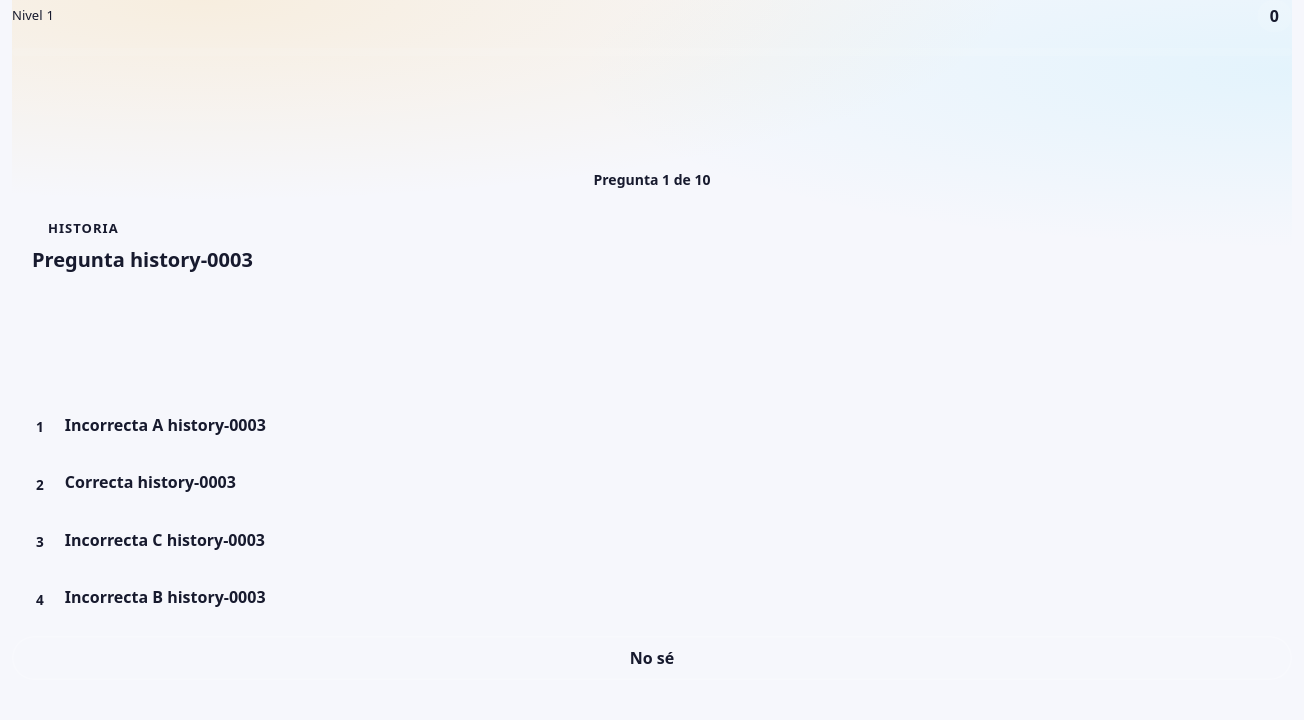
Test: answering correctly shows the check, the explanation and the score
The image size is (1304, 720).
Click the button "2 Correcta history-0003" at {"x": 64, "y": 482}, box [12,461,1292,509]
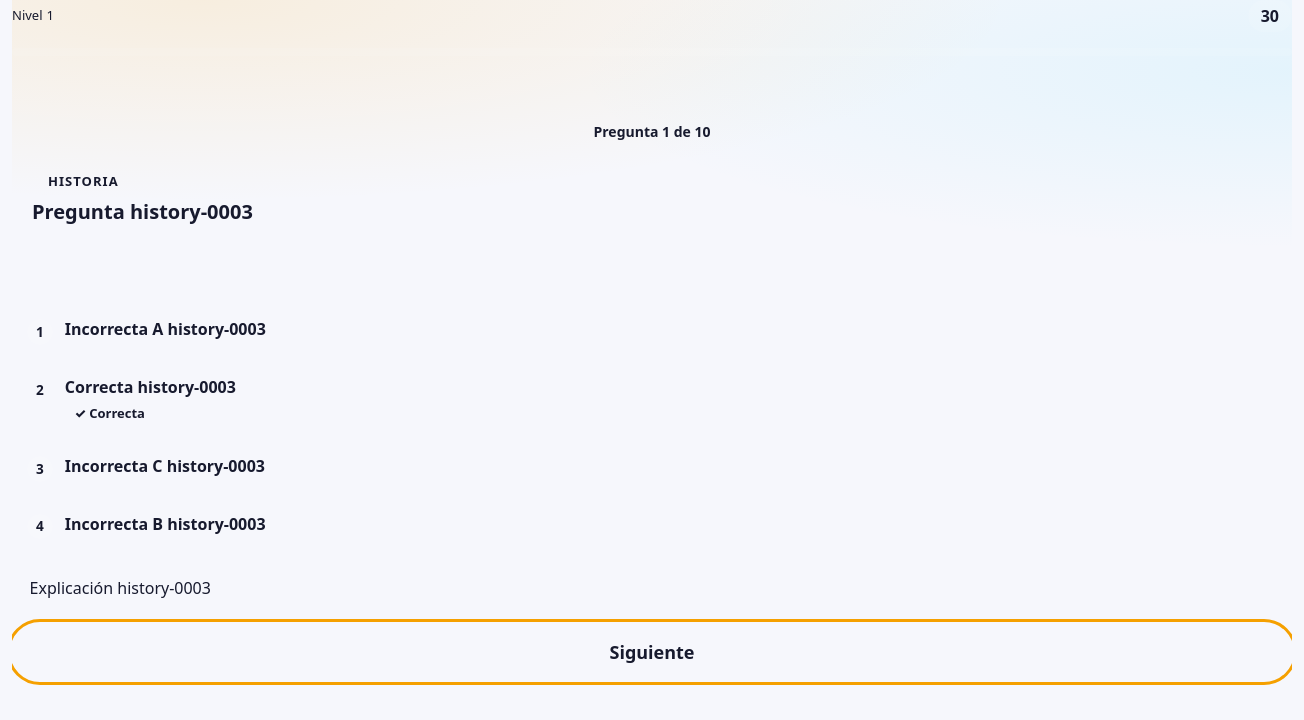
Now the text "✓ Correcta" is shown, box [74,404,145,422]
Now the text "Explicación history-0003" is shown, box [30,577,211,599]
Now the button "Siguiente" is shown, box [12,624,1292,680]
